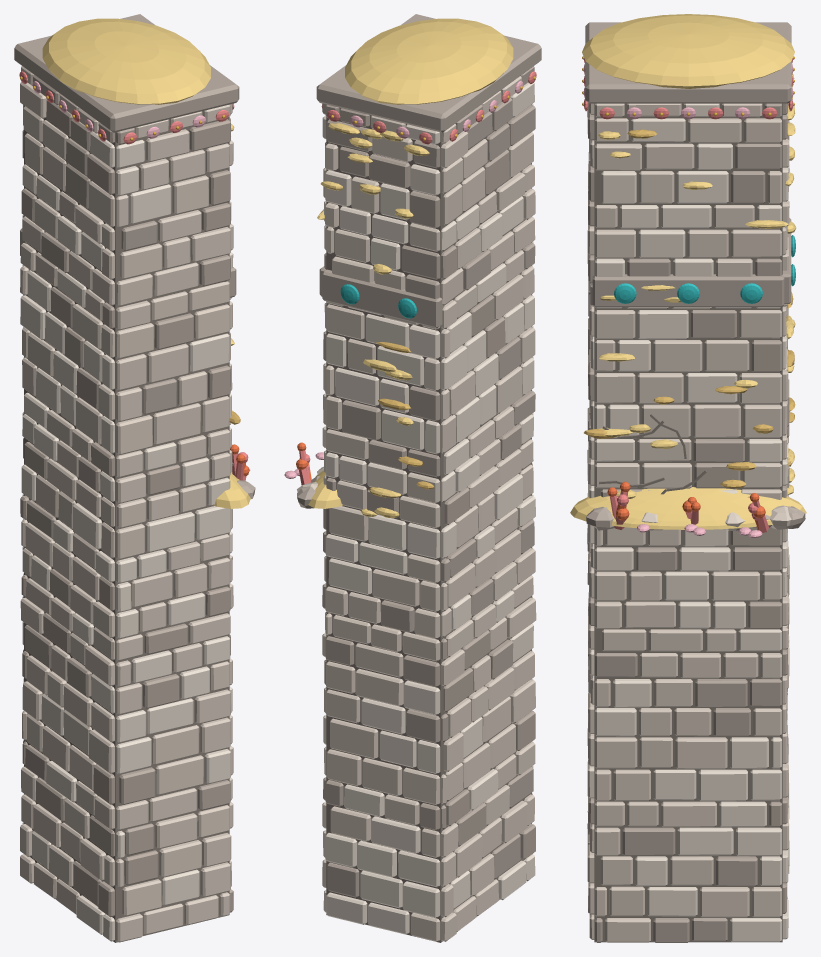
File: BossWall_CoralCoast.fbx
3 renders of one model, left to right at view 1: azimuth 30°, elevation 25°; view 2: azimuth 150°, elevation 25°; view 3: azimuth 270°, elevation 25°, orthographic. The views are drawn at different scales.
Parts seen in each view (by area): view 1: BossWall_CoralCoast; view 2: BossWall_CoralCoast; view 3: BossWall_CoralCoast.
Boxes of the visible parts, box(x1,y1,x2,y2) form: BossWall_CoralCoast: box(14, 14, 255, 942); BossWall_CoralCoast: box(284, 14, 541, 942); BossWall_CoralCoast: box(570, 14, 806, 942).
Bounding box in the file's own units: 452 × 2047 × 500.
